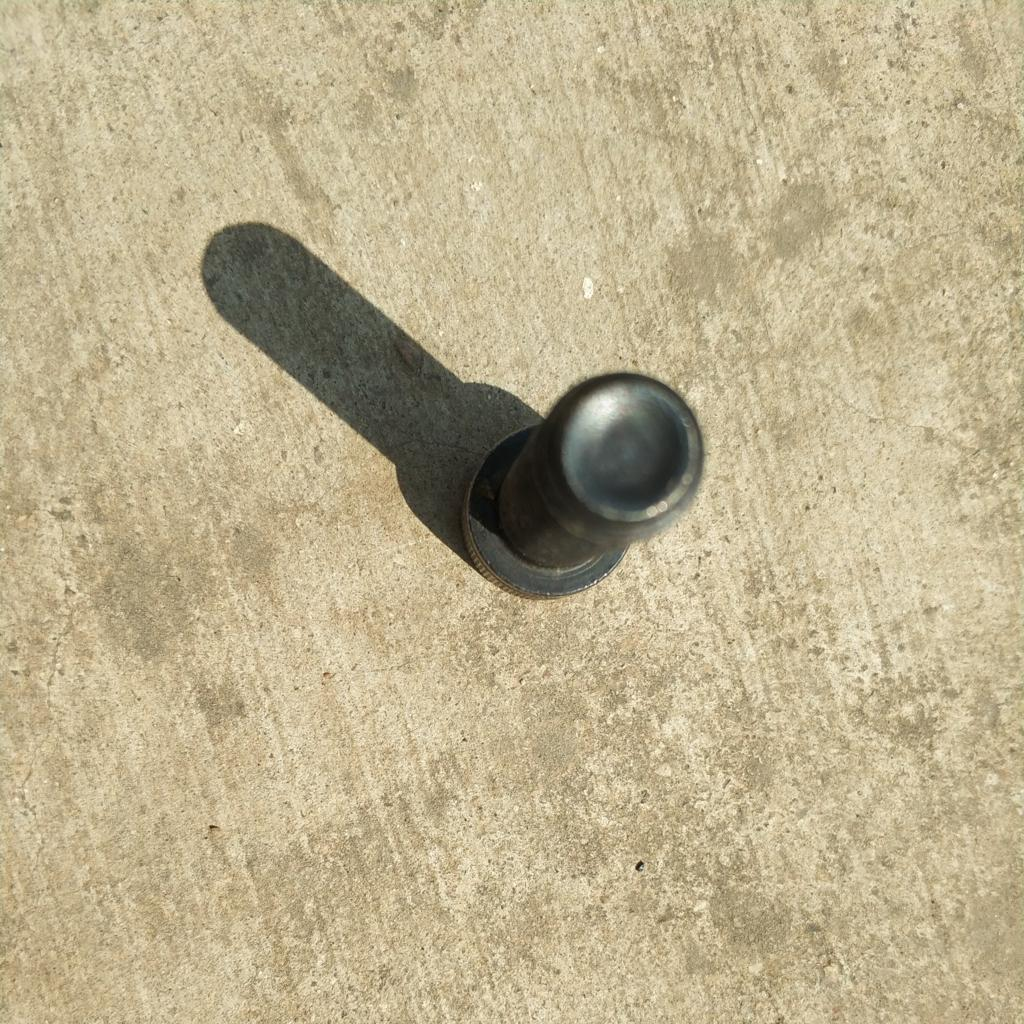screwtype1black: (444, 365, 710, 617)
